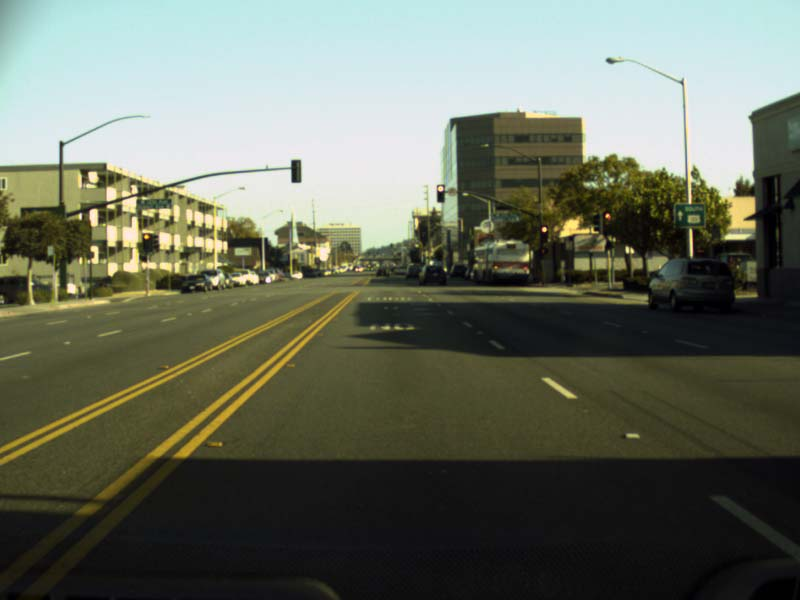Red: (602, 210, 612, 233), (141, 233, 150, 250), (539, 225, 546, 241), (436, 185, 443, 200)
